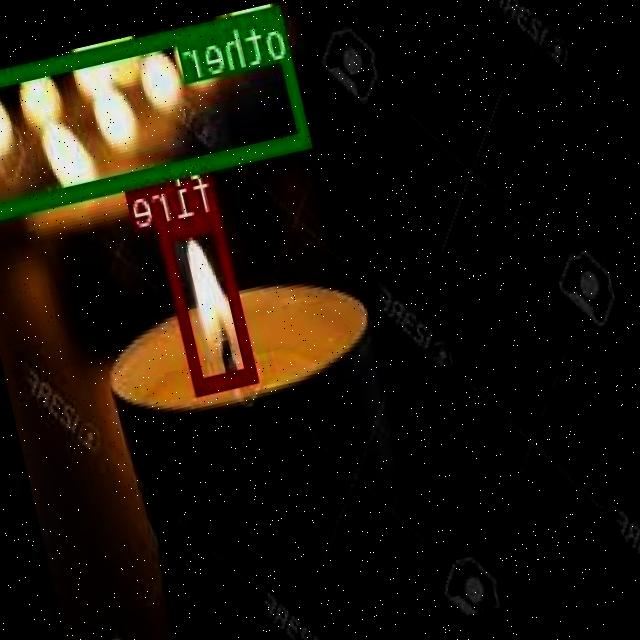fire: (160, 210, 260, 391)
